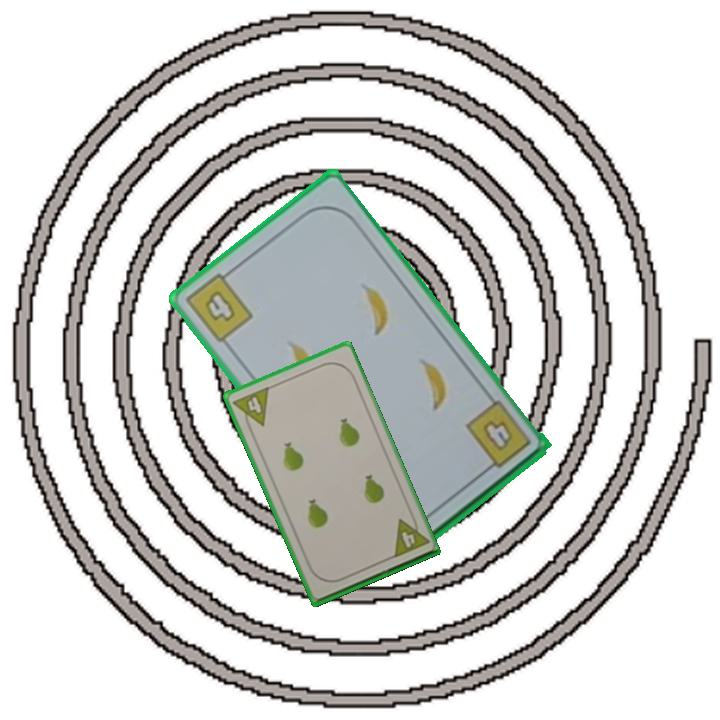4b: (181, 264, 256, 346), (461, 396, 534, 476)
4p: (229, 383, 272, 434), (389, 511, 431, 561)
